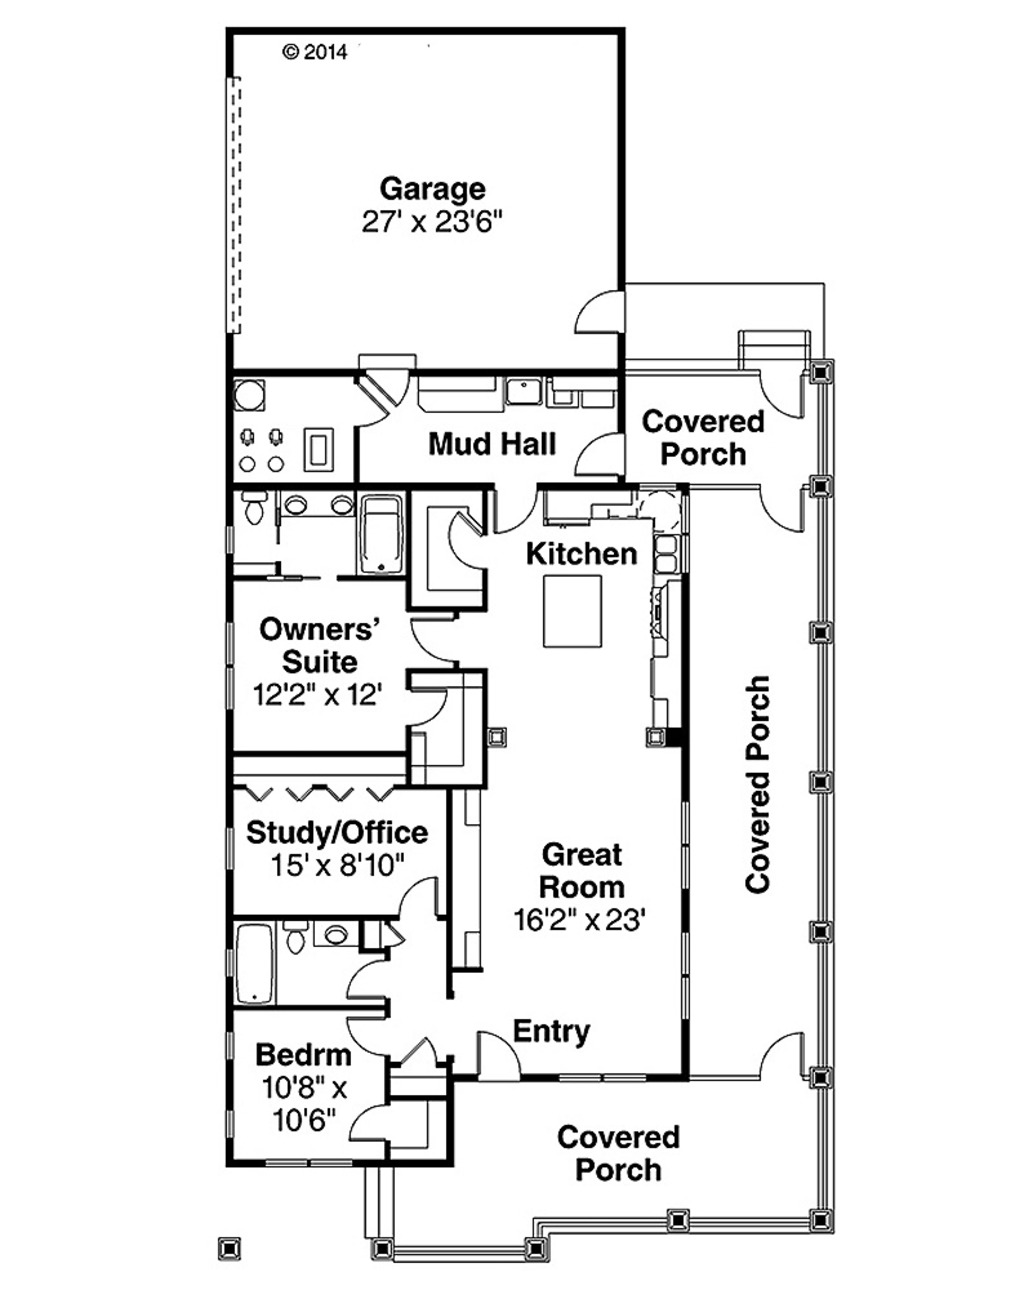door: (752, 481, 814, 537), (438, 511, 492, 570), (342, 948, 396, 1003), (569, 429, 627, 479), (756, 1024, 808, 1078), (389, 870, 445, 921), (571, 290, 629, 336), (752, 365, 803, 418), (490, 484, 540, 536), (471, 1029, 521, 1080), (411, 609, 462, 659), (338, 1011, 389, 1058), (341, 1100, 389, 1147), (351, 384, 393, 432), (407, 683, 449, 728), (393, 1031, 438, 1066)
large_sink: (230, 484, 279, 529), (279, 918, 311, 961)
small_sink: (277, 481, 360, 521), (311, 918, 363, 951)
tub: (233, 922, 279, 1006), (362, 496, 401, 580)
windows: (549, 1066, 648, 1091), (675, 931, 693, 1022), (260, 1157, 356, 1174), (678, 798, 693, 895)
